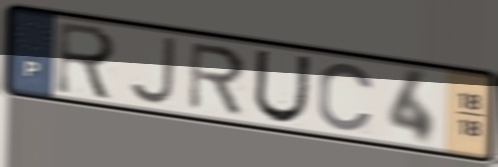4: (383, 66, 440, 148)
C: (315, 61, 378, 134)
J: (125, 34, 178, 107)
R: (52, 19, 119, 104), (186, 40, 248, 118)
U: (250, 47, 313, 125)
